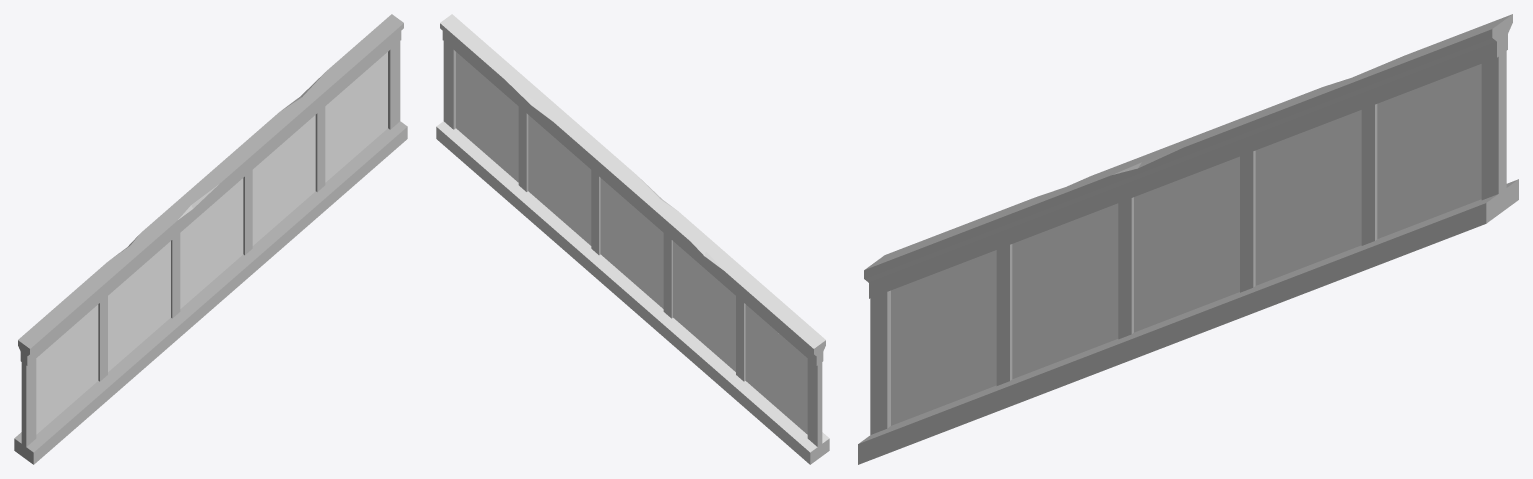
The model's file is SM_Bld_Wall_Balcony_Stairs_01.glb.
3 views of the same model, side by side, from view 1: azimuth 30°, elevation 25°; view 2: azimuth 150°, elevation 25°; view 3: azimuth 330°, elevation 25° (orthographic). The views are drawn at different scales.
Parts seen in each view (by area): view 1: SM_Bld_Wall_Balcony_Stairs_01; view 2: SM_Bld_Wall_Balcony_Stairs_01; view 3: SM_Bld_Wall_Balcony_Stairs_01.
Boxes of the visible parts, box(x1,y1,x2,y2) form: SM_Bld_Wall_Balcony_Stairs_01: box(14, 14, 407, 464); SM_Bld_Wall_Balcony_Stairs_01: box(436, 14, 829, 464); SM_Bld_Wall_Balcony_Stairs_01: box(858, 14, 1518, 464).
Size of the model in its own units: 2.5 by 2.22 by 0.225.
2 materials, 1 textured.
